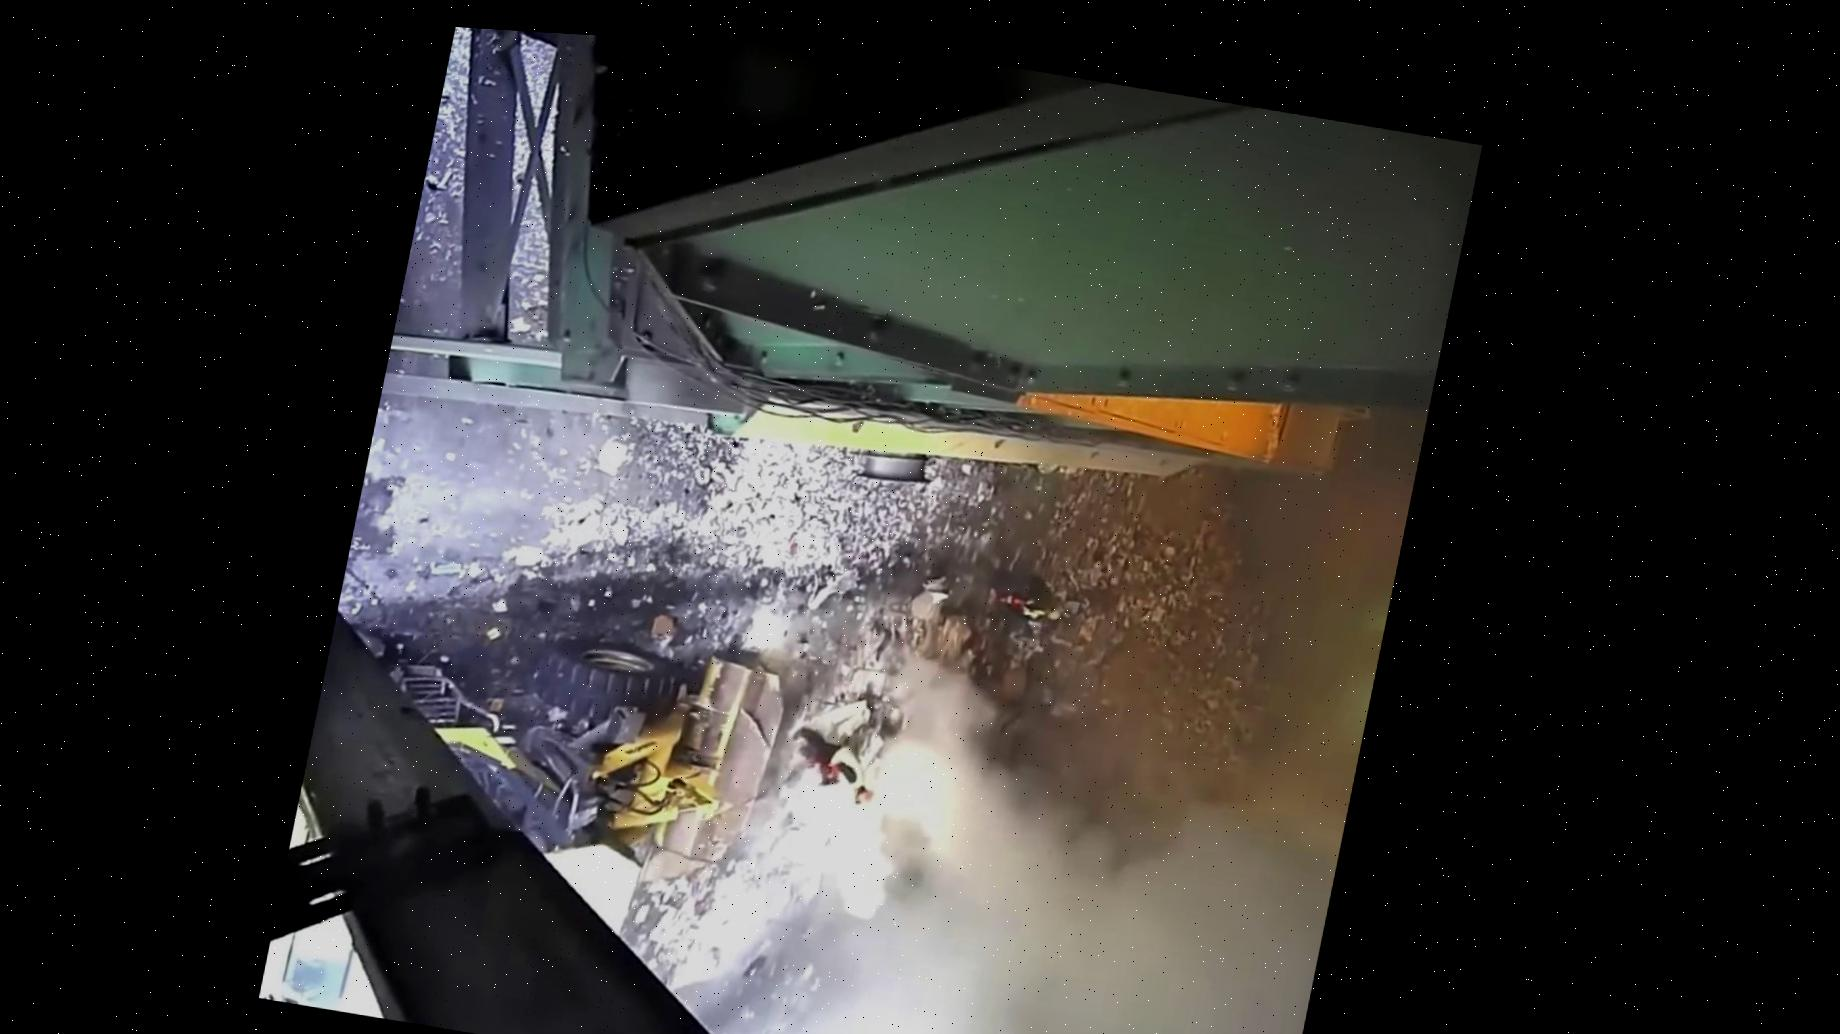smoke: (685, 602, 1281, 948)
